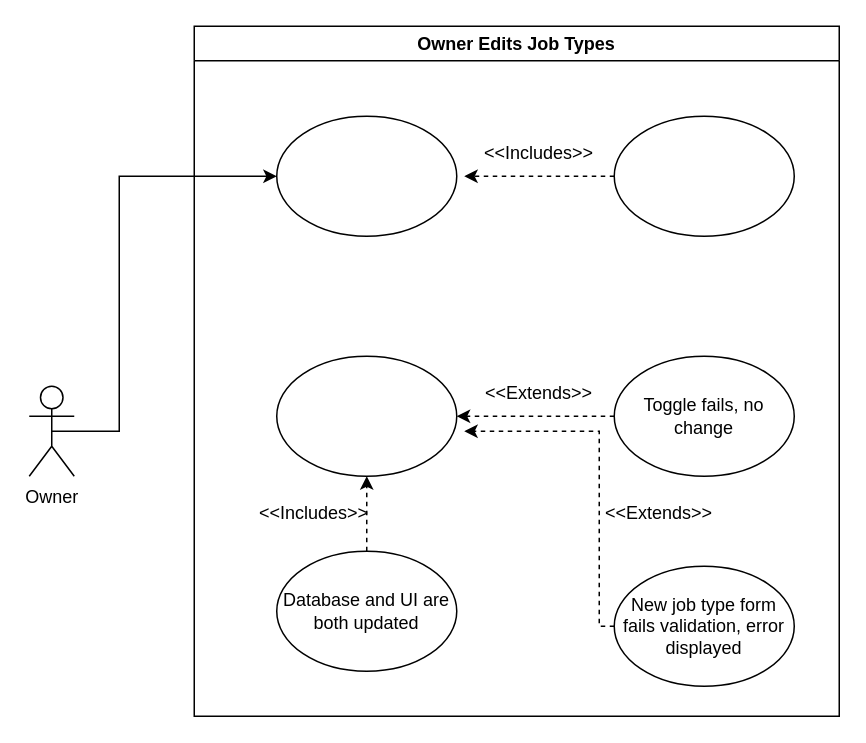
The diagram is 866 pixels wide and 743 high, and some of its shapes have lost their labels. Each missing label, with the centre of its shape:
"Owner requests to edit or create job type" belongs at pixel 366 175.
"System attempts changes" belongs at pixel 366 415.
"User/Permissions Authentication" belongs at pixel 703 175.
